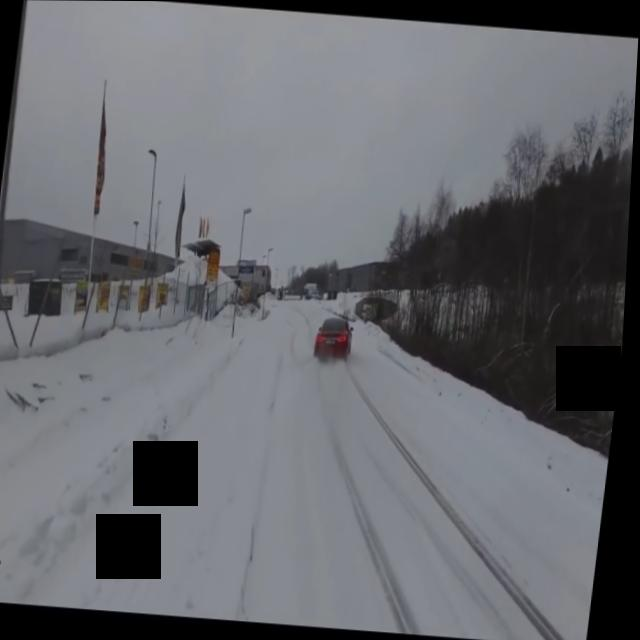Pole: (0, 0, 46, 550), (225, 204, 257, 341), (137, 144, 167, 277), (260, 243, 276, 321)
Vehicle: (312, 310, 360, 367)
